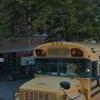Bus: (14, 39, 99, 100)
